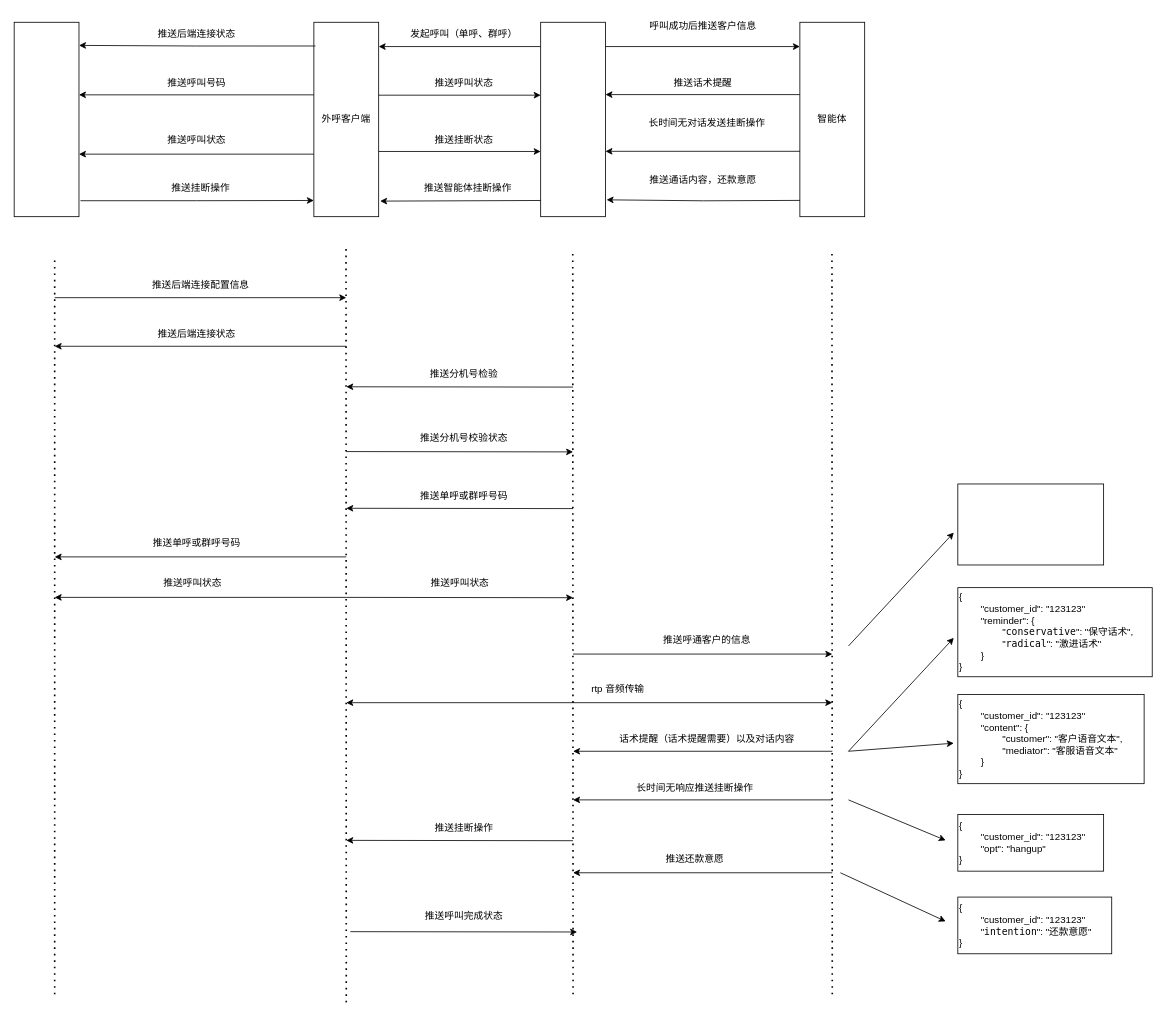
This 1166x1017 diagram has some shape labels left out. The shapes that lost their labels are listed below. From the top down, each one's centre as x and y in pixels, then its label:
[46,119]: 外呼GUI
[572,119]: 外呼前后端
[1030,524]: { "customer_id": "123123" "customer_info": { "": "" } }
